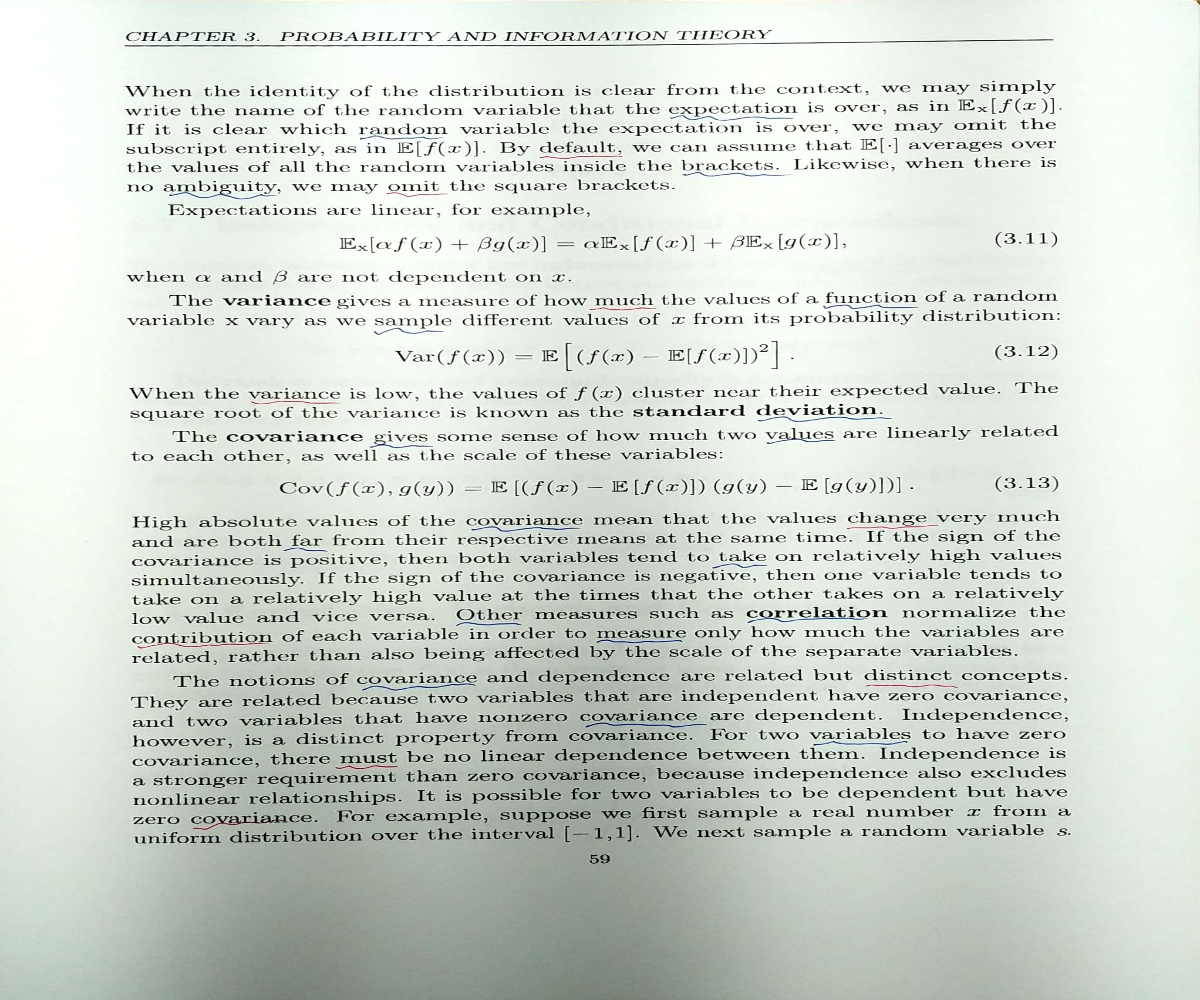underline: (129, 637, 276, 653), (677, 166, 797, 184), (580, 717, 720, 732), (742, 613, 872, 627), (862, 678, 966, 695), (808, 734, 917, 750), (184, 818, 318, 831), (754, 415, 896, 427), (818, 300, 928, 315), (463, 523, 589, 536), (366, 323, 459, 340), (664, 112, 800, 123), (162, 188, 283, 200), (536, 149, 624, 162), (355, 133, 449, 145), (355, 683, 492, 691), (450, 616, 527, 630), (591, 636, 695, 646), (329, 759, 403, 773), (275, 540, 331, 558), (842, 523, 946, 532), (383, 188, 456, 200), (706, 558, 767, 572), (763, 438, 841, 448), (579, 305, 664, 313)
